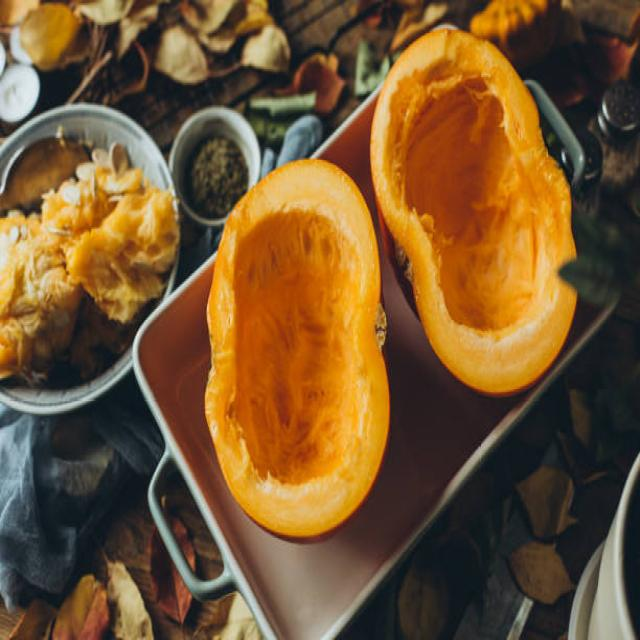pumpkin: (371, 30, 576, 395), (205, 159, 390, 537)
